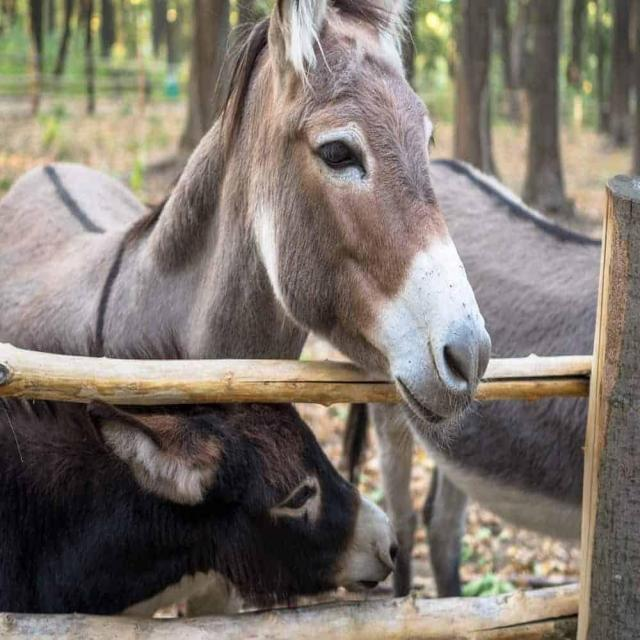Donkey: (0, 0, 492, 617), (338, 154, 606, 598), (0, 388, 400, 619)
